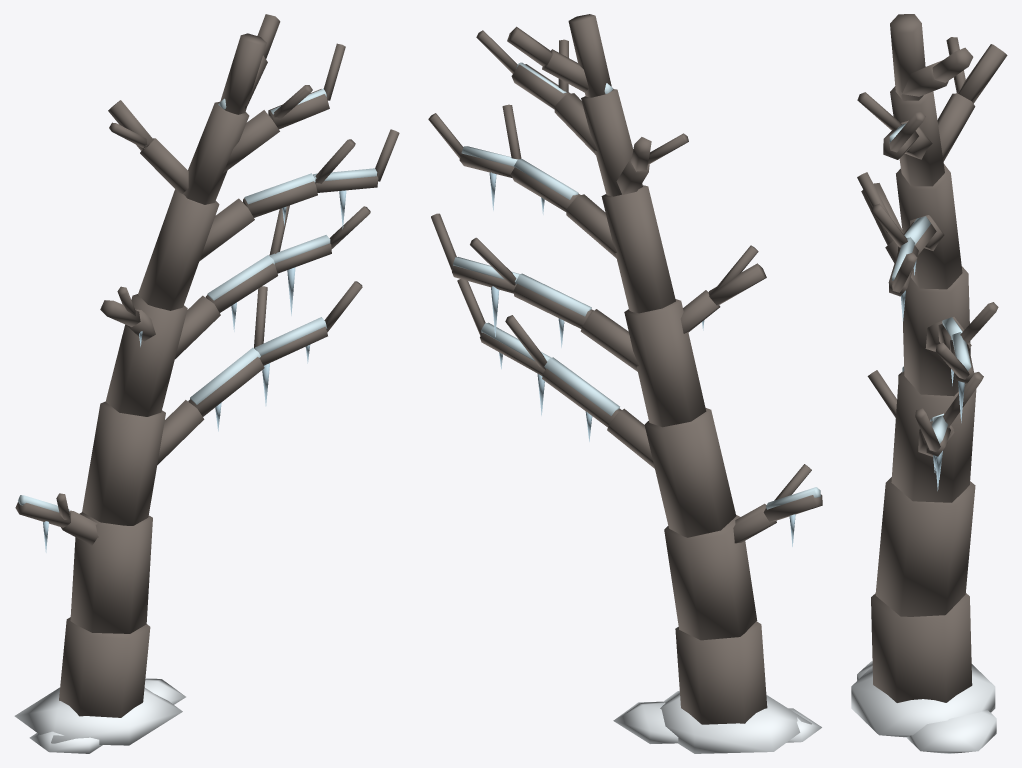
Rendered from tree_frozen.gltf.
3 renders of one model, left to right at view 1: azimuth 30°, elevation 25°; view 2: azimuth 150°, elevation 25°; view 3: azimuth 270°, elevation 25°, orthographic. The views are drawn at different scales.
Visible parts, largest first — view 1: FrozenDeadTree; view 2: FrozenDeadTree; view 3: FrozenDeadTree.
Boxes of the visible parts, bbox=[...] form: FrozenDeadTree: bbox=[14, 14, 399, 753]; FrozenDeadTree: bbox=[428, 14, 822, 753]; FrozenDeadTree: bbox=[851, 14, 1007, 753].
Bounding box in the file's own units: 3.56 × 5.92 × 1.07.
